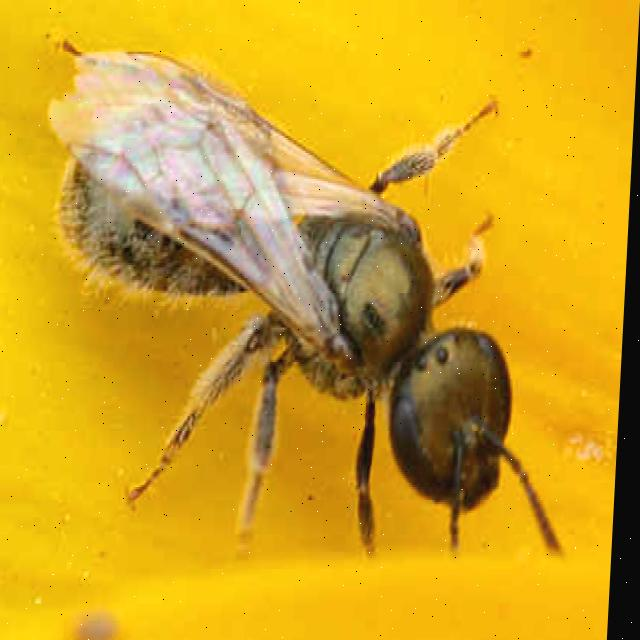Meliponula: (22, 11, 597, 586)
